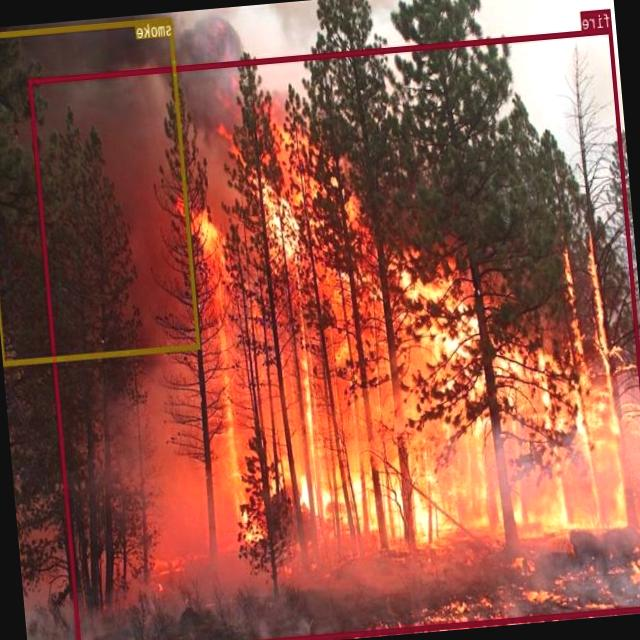fire: (28, 27, 640, 640)
smoke: (0, 15, 201, 365)
